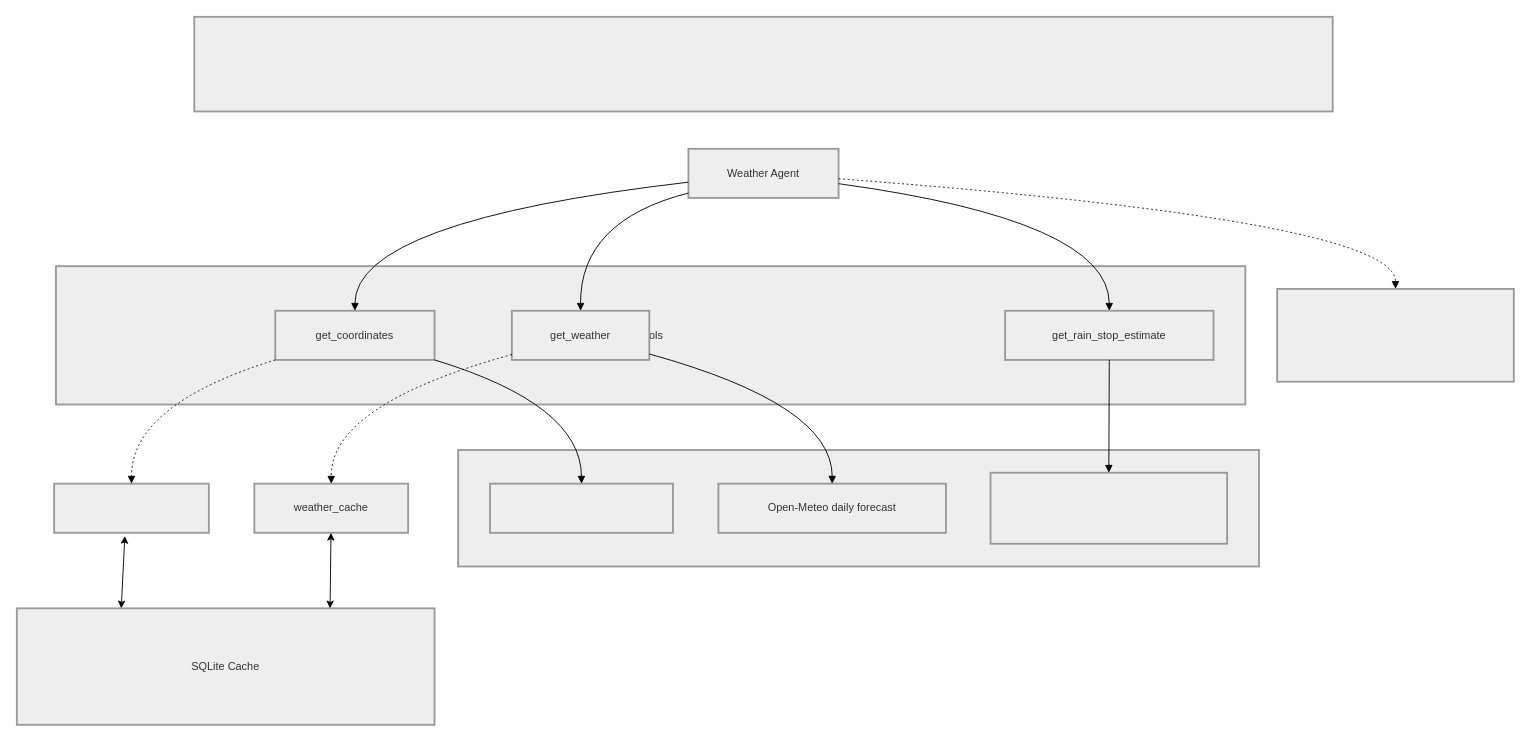
This 1530x741 diagram has some shape labels left out. The centre of each missing label's shape, as x and y in pixels:
"geocode_cache" goes at point 131,507.
"Geopy / Nominatim" goes at point 581,507.
"LLM chooses weather tools, loops up to limit, returns SMS forecast" goes at point 1395,335.
"Open-Meteo 15-minute precipitation" goes at point 1108,507.
"Weather Agent (LangGraph + LLM)" goes at point 763,63.
